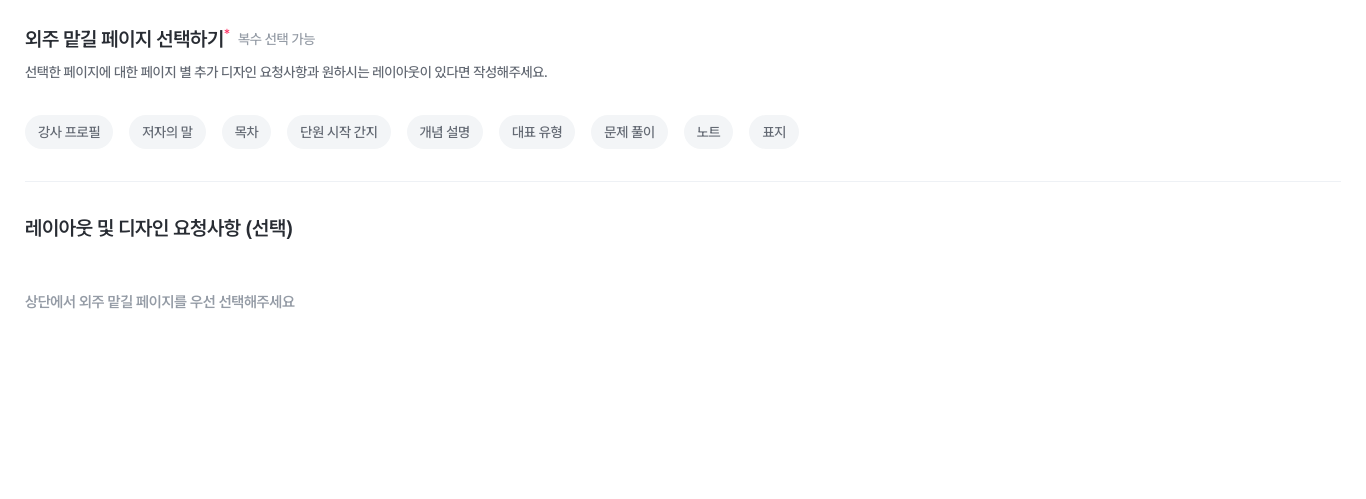
Test: NecessaryPageChooseSection › 여러 페이지를 선택하면 모두 selectedPages에 추가되고 각각 요청사항 입력란이 생긴다
This screenshot has width=1366, height=499.
Click the button "강사 프로필".
click(69, 132)  # box [25,115,113,149]
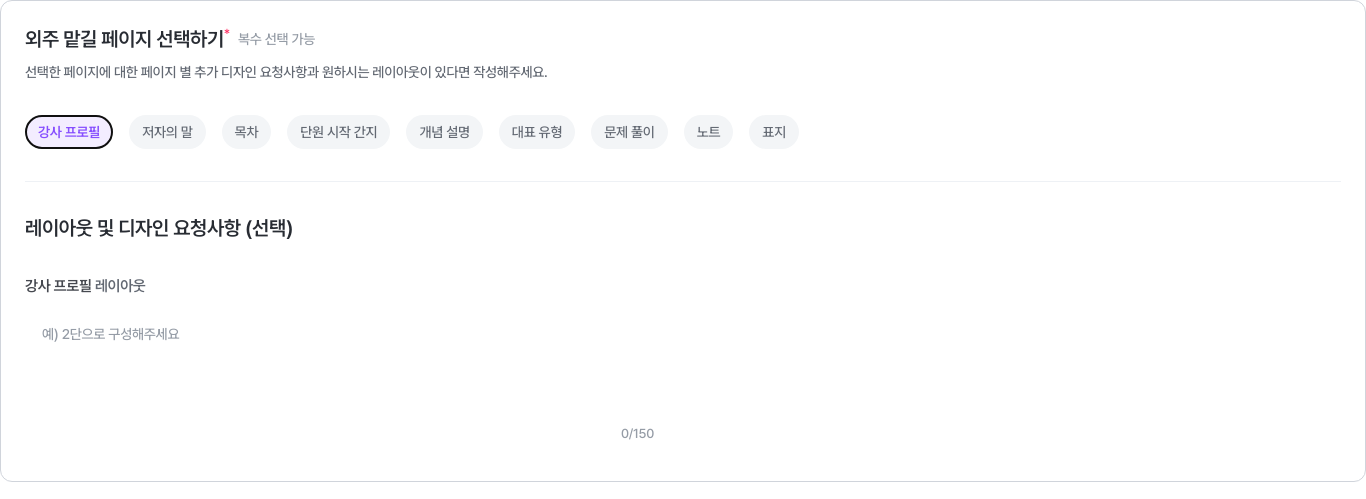
Click the button "표지".
click(774, 132)  # box [749,115,799,149]
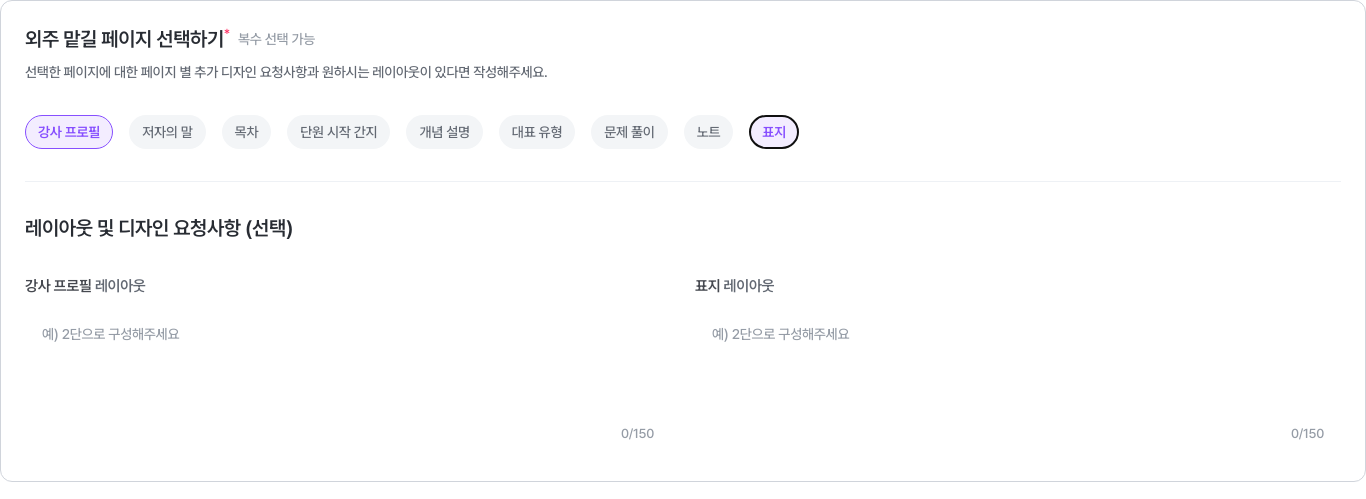
Expected: the number of text boxes with placeholder "예) 2단으로 구성해주세요" is 2, [42,323,654,421]; [712,323,1324,421]
